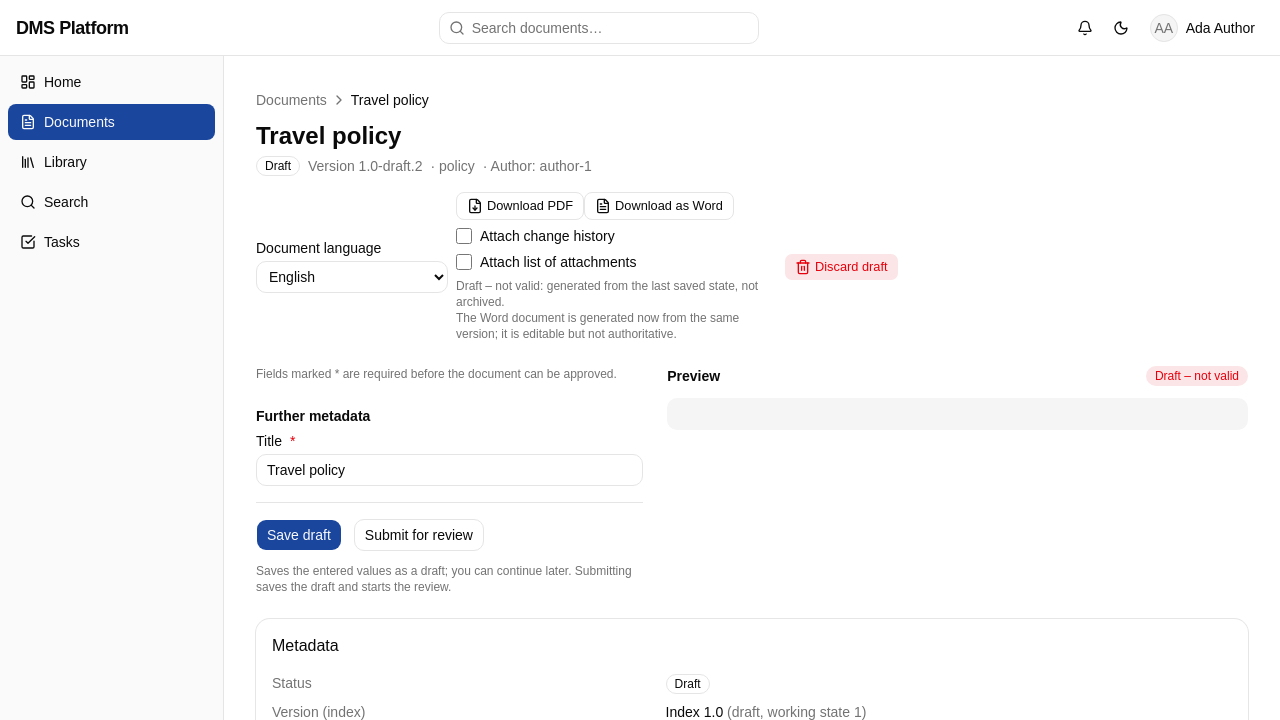
Discard draft on the document page (DMS-129) › discards a first draft with a reason after confirmation and opens the document list
Click the button "Discard draft" at [841, 267], box [784, 253, 898, 281]
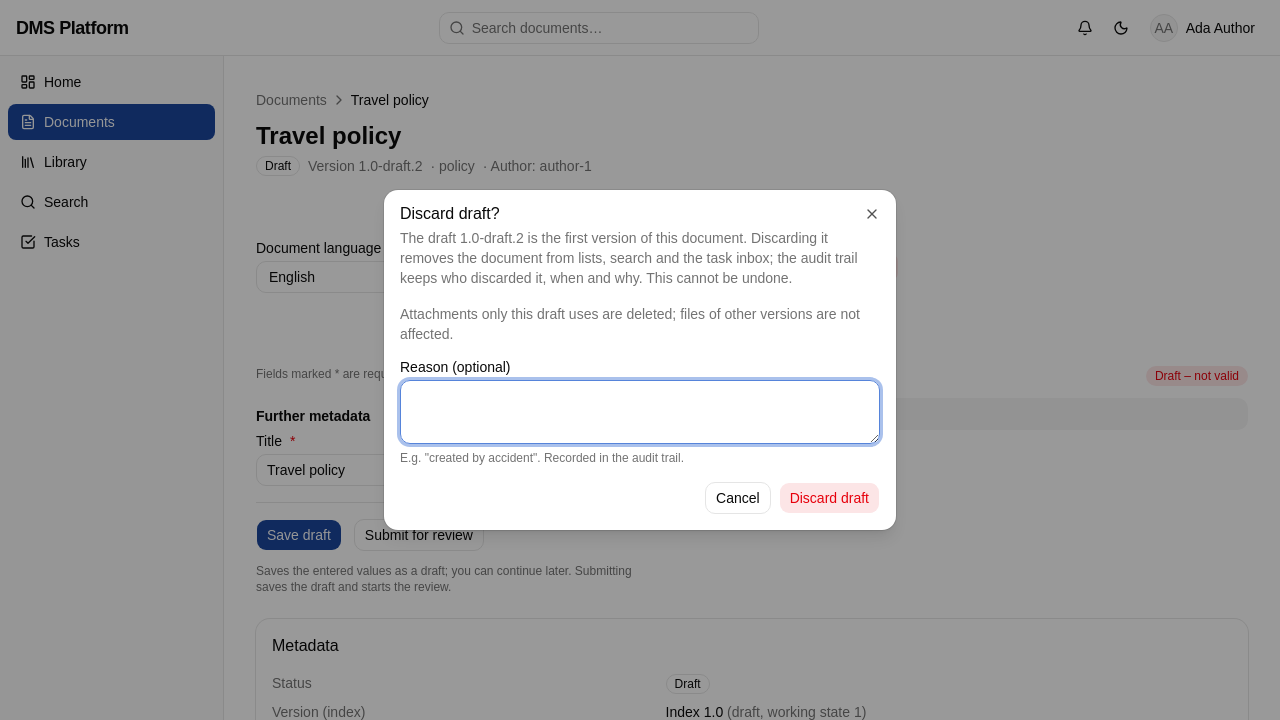
Expected: the text "files of other versions are not affected" is shown, [400, 306, 860, 342]
Cancelling discards nothing.
Click the button "Cancel" at [738, 498], box [705, 482, 771, 514]
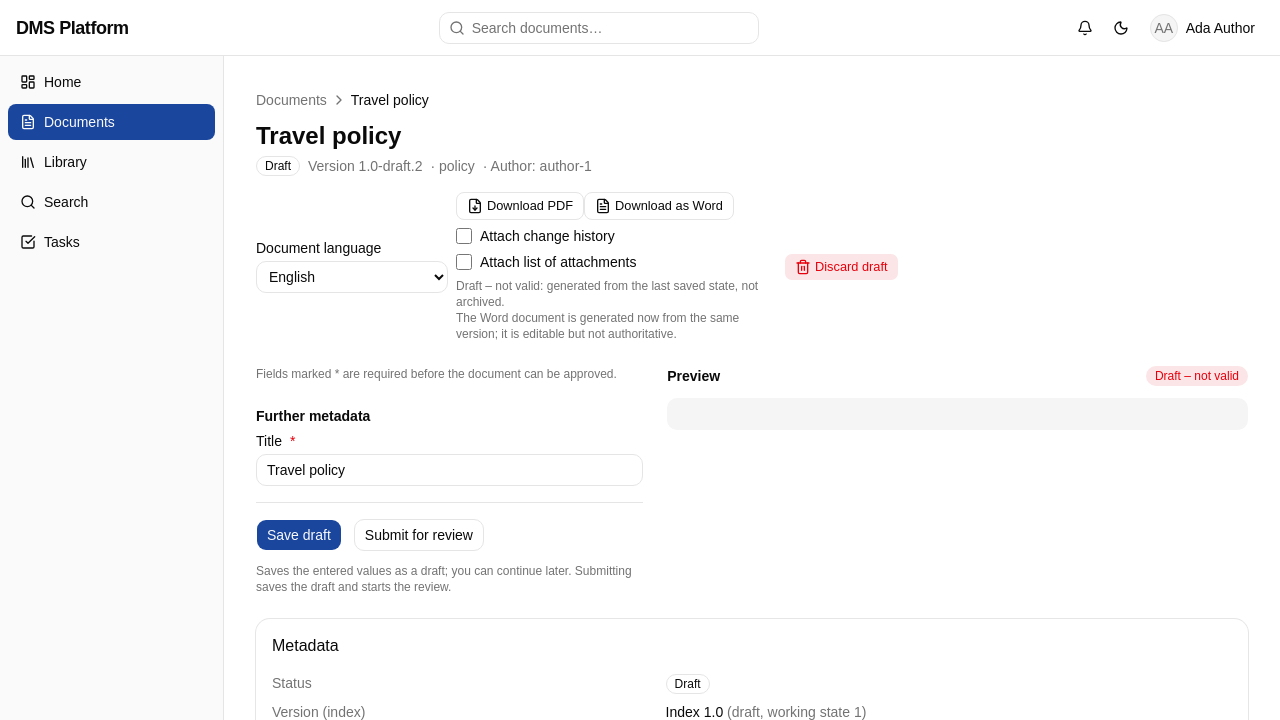
Click the button "Discard draft" at [841, 267], box [784, 253, 898, 281]
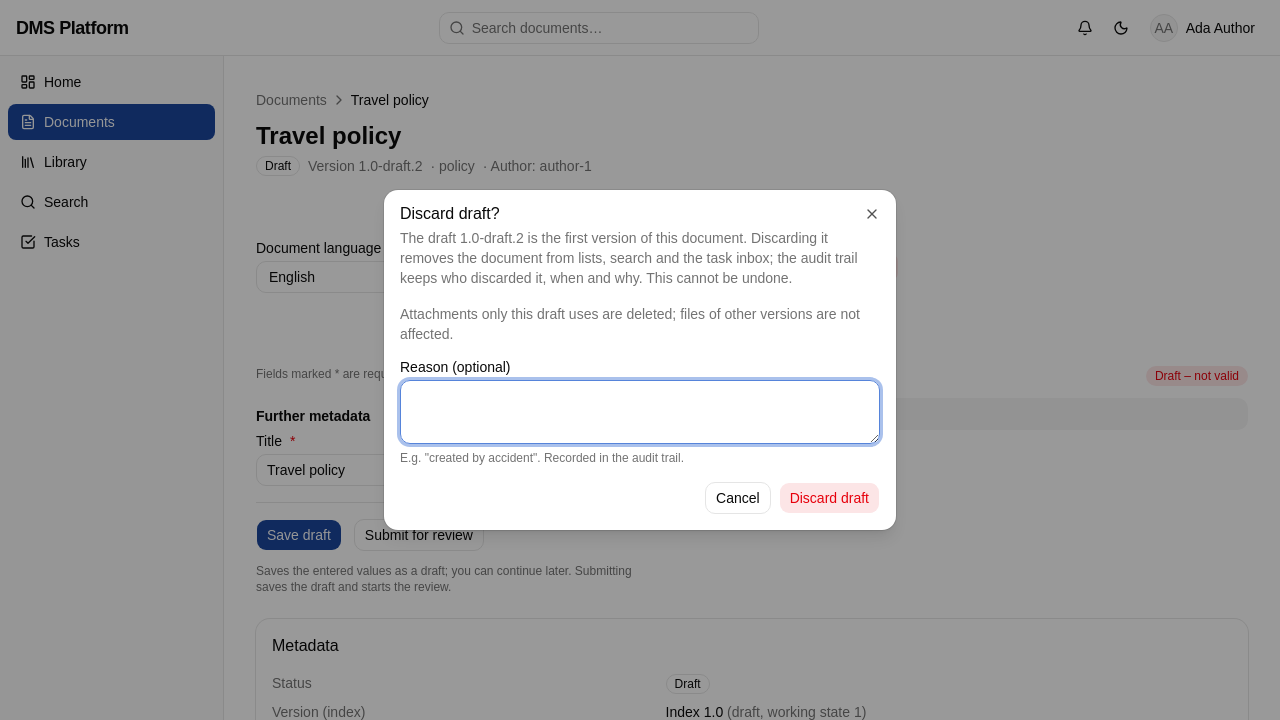
Type "  Created by accident " into the text box labelled "Reason (optional)" at [640, 412], box [400, 380, 880, 444]
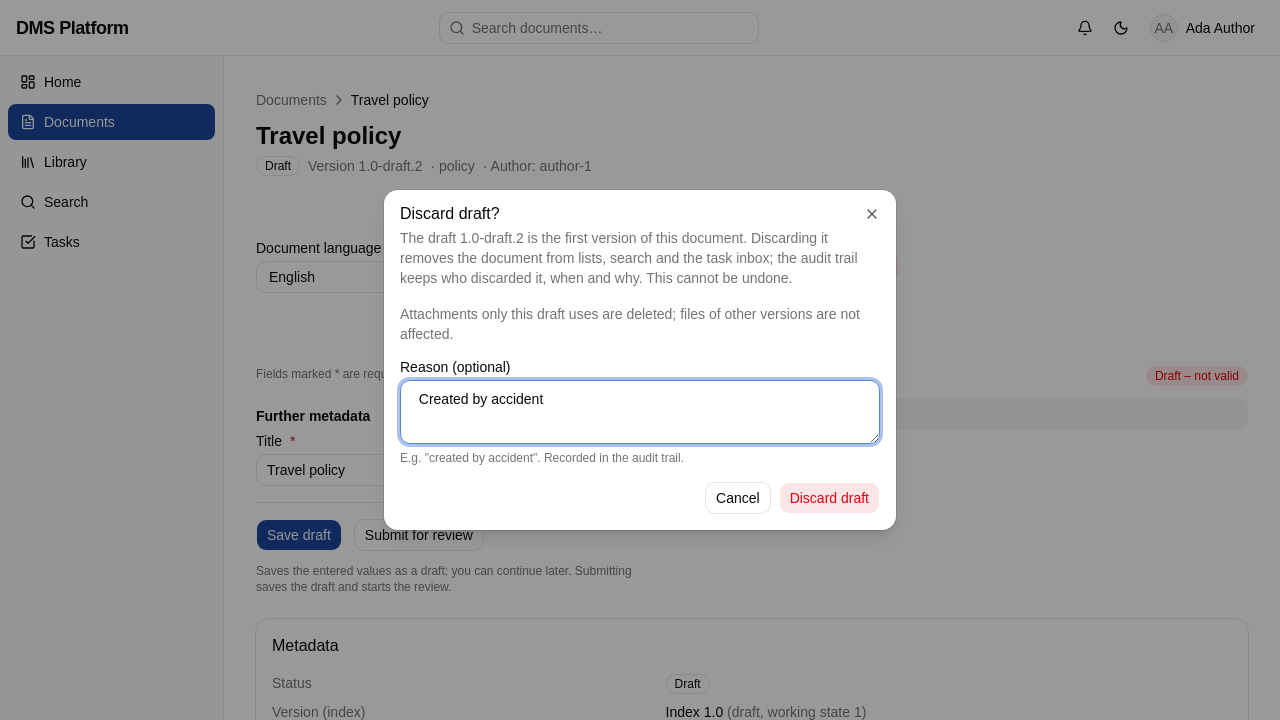
Click the button "Discard draft" at [829, 498], box [779, 482, 880, 514]
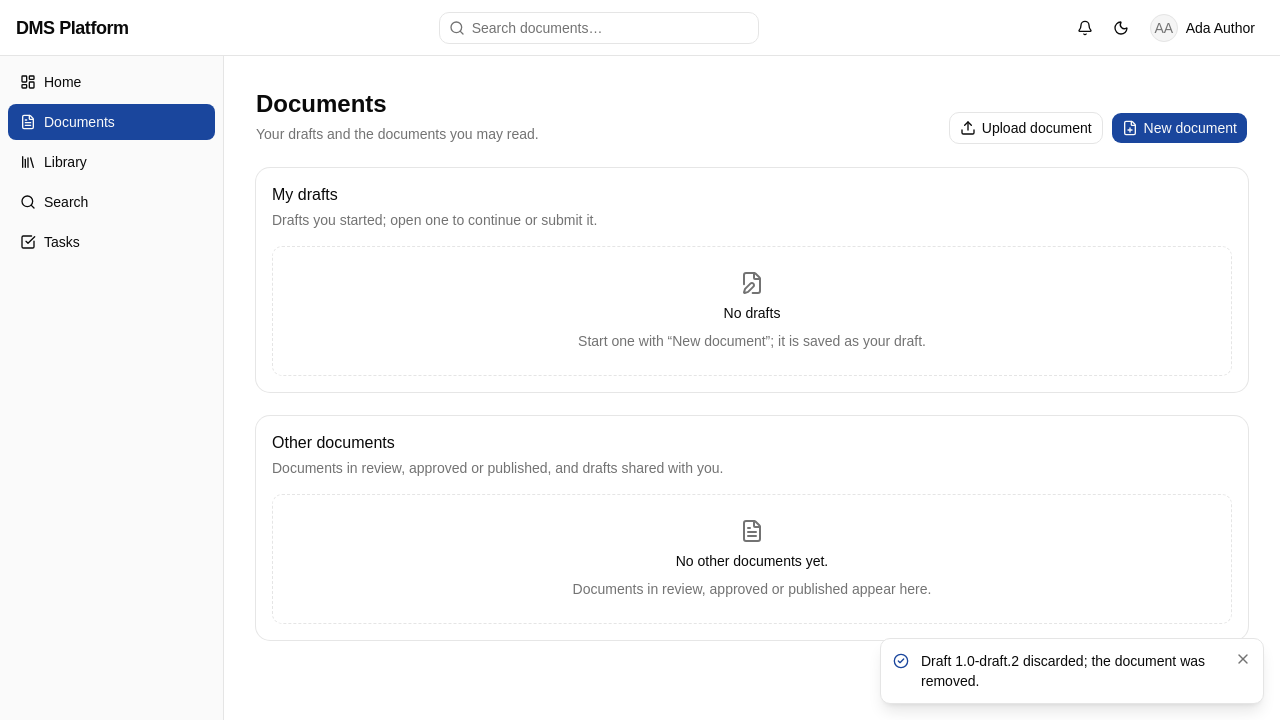
Expected: the text "Draft 1.0-draft.2 discarded; the document was removed." is shown, [921, 651, 1223, 691]
